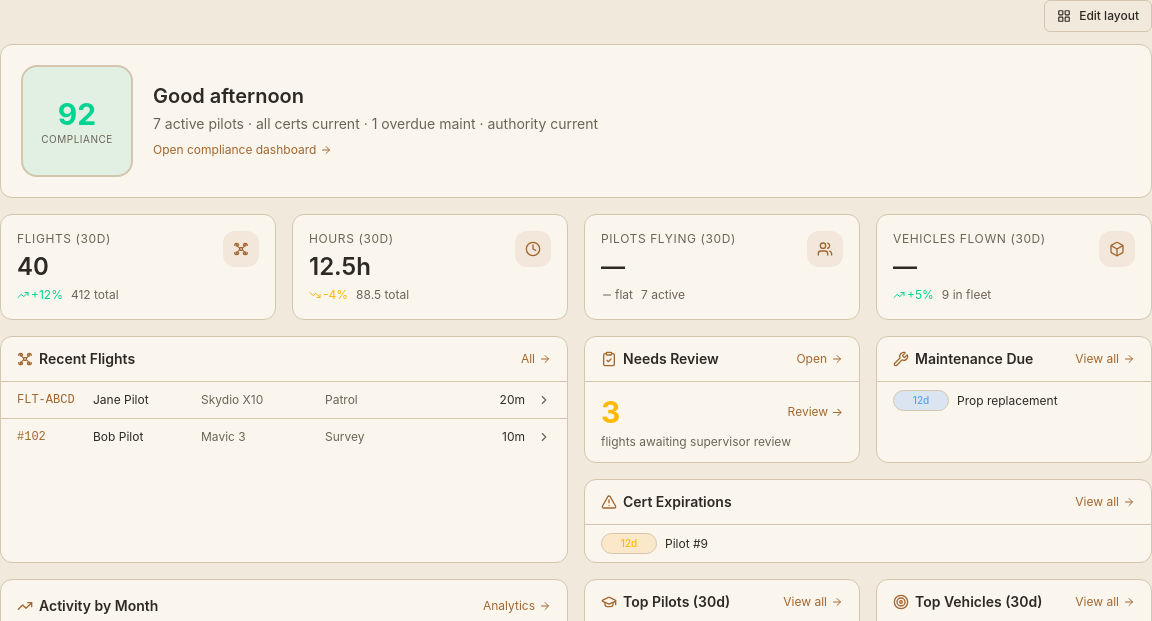
Test case: DashboardPage › arranging › saves the arrangement to the account
The width and height of the screenshot is (1152, 621).
Expected: the text "7 active pilots" is shown, top-left (153, 115), bottom-right (244, 132)
Click the button "Edit layout" at coordinates (1098, 16), box top-left (1044, 0), bottom-right (1151, 32)
(page scrolled)
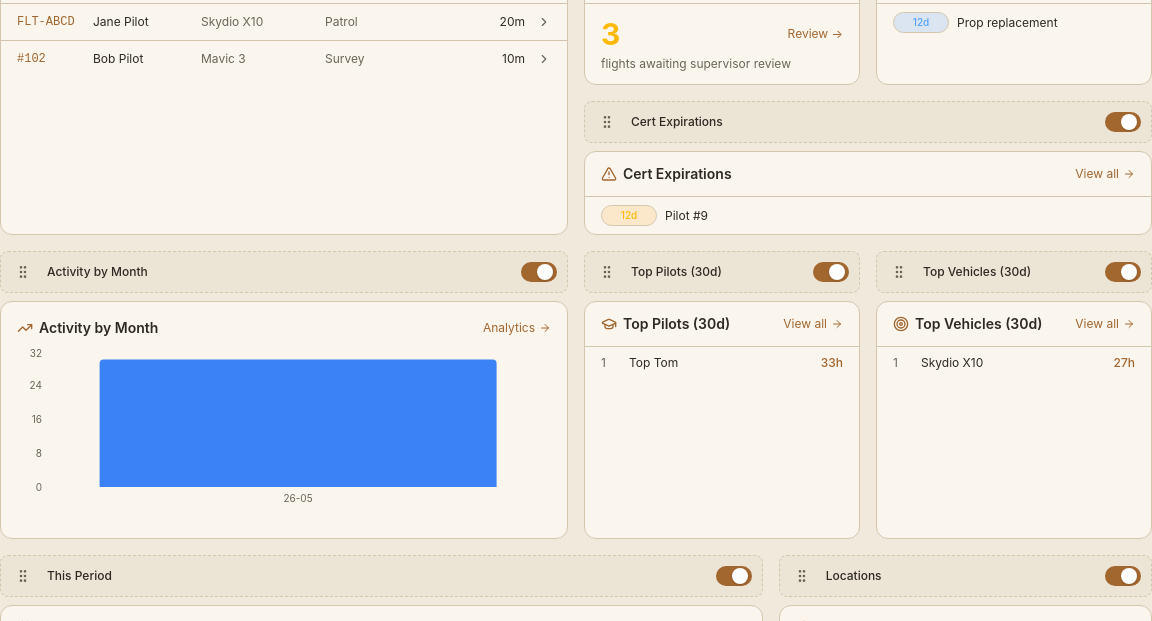
Click the switch named "Show Locations" at coordinates (1123, 576), box top-left (1101, 560), bottom-right (1145, 592)
(page scrolled)
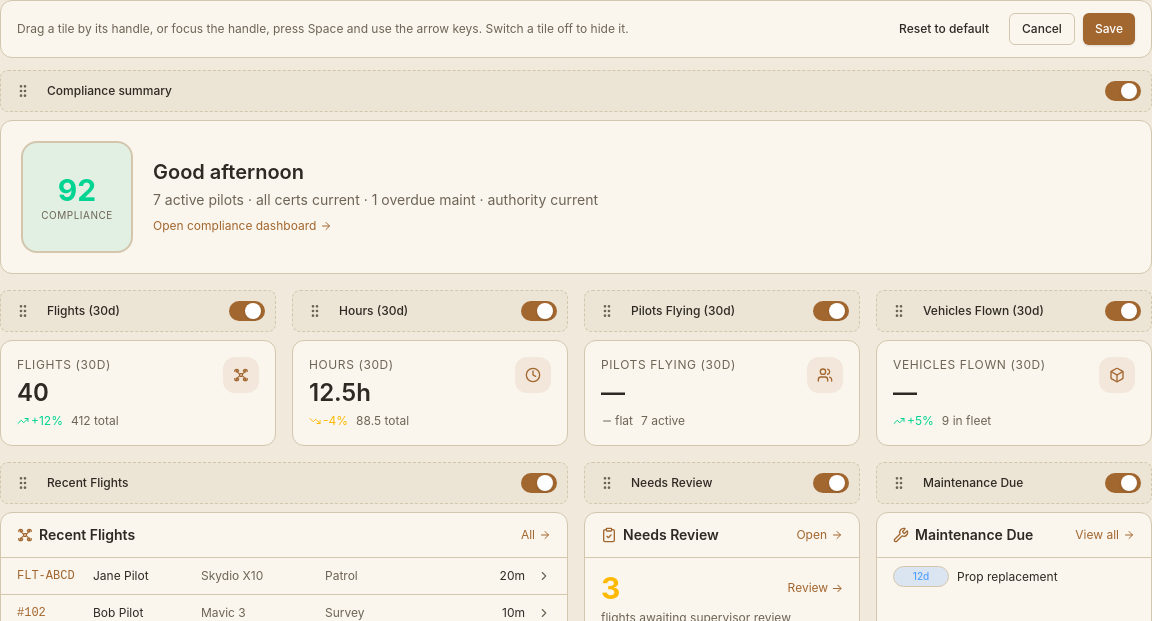
Click the button "Save" at coordinates (1109, 29), box top-left (1083, 13), bottom-right (1135, 45)
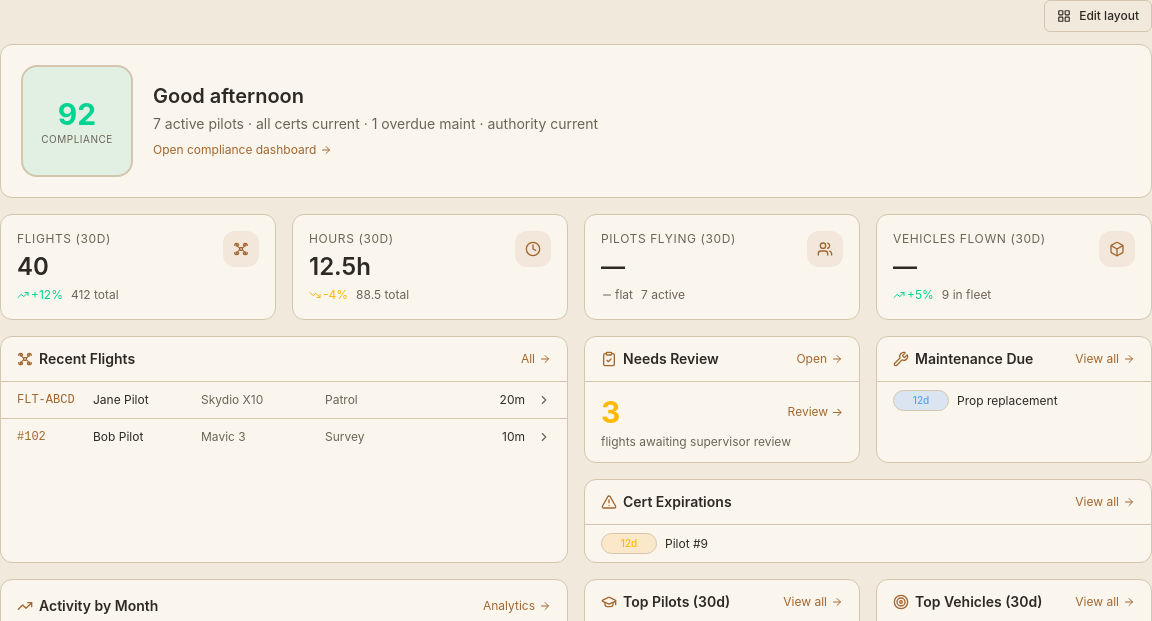
Expected: the text "Locations" is not shown
Expected: the button "Edit layout" is shown, top-left (1044, 0), bottom-right (1151, 32)
